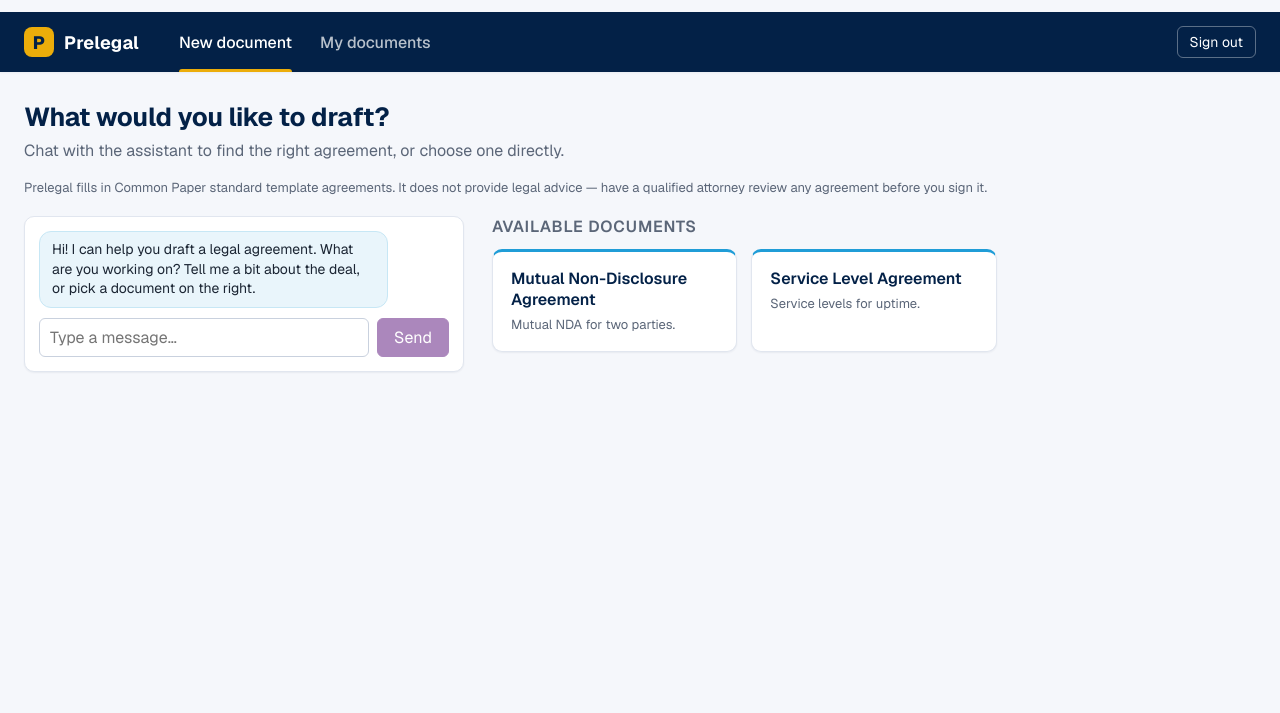
Test: Home: choosing a document › clicking a card opens that document
What coordinates should you click on to do the following:
click the button "Service Level Agreement Service levels for uptime."
I would click on:
 (874, 300)
Its box is [751, 249, 997, 352].
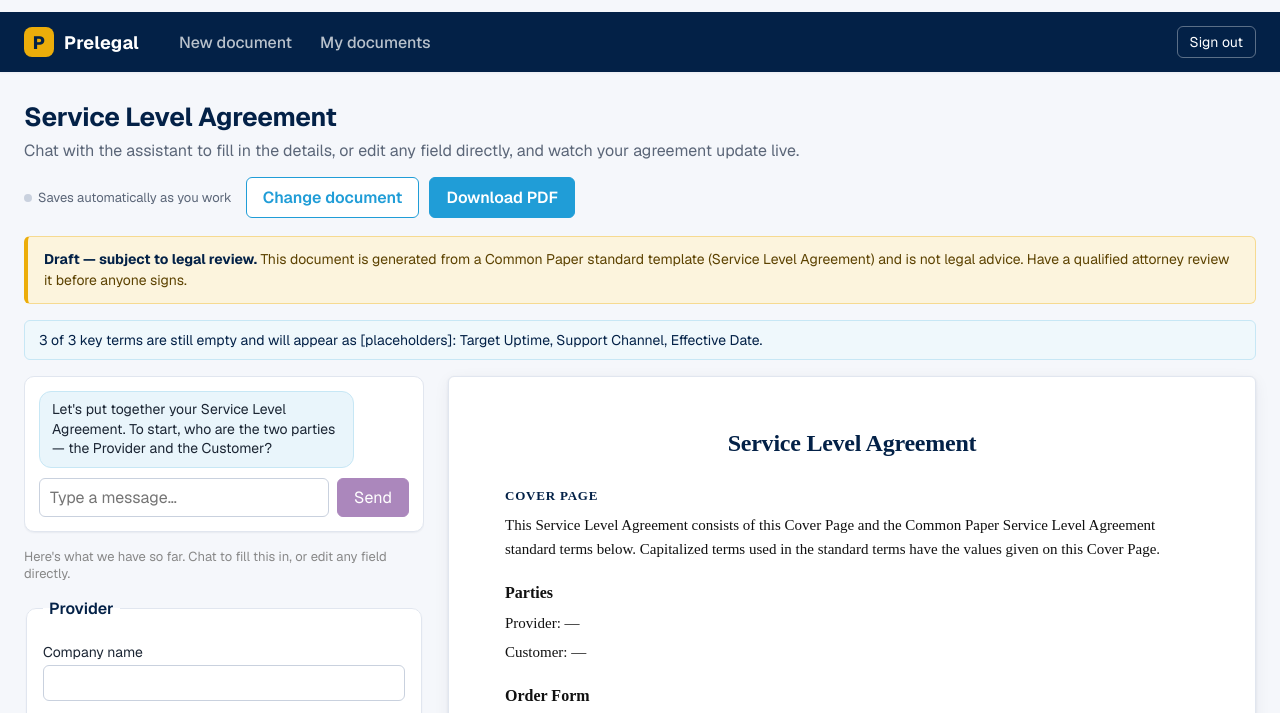
Now the 1st heading "Service Level Agreement" is shown, box [24, 100, 336, 134]
